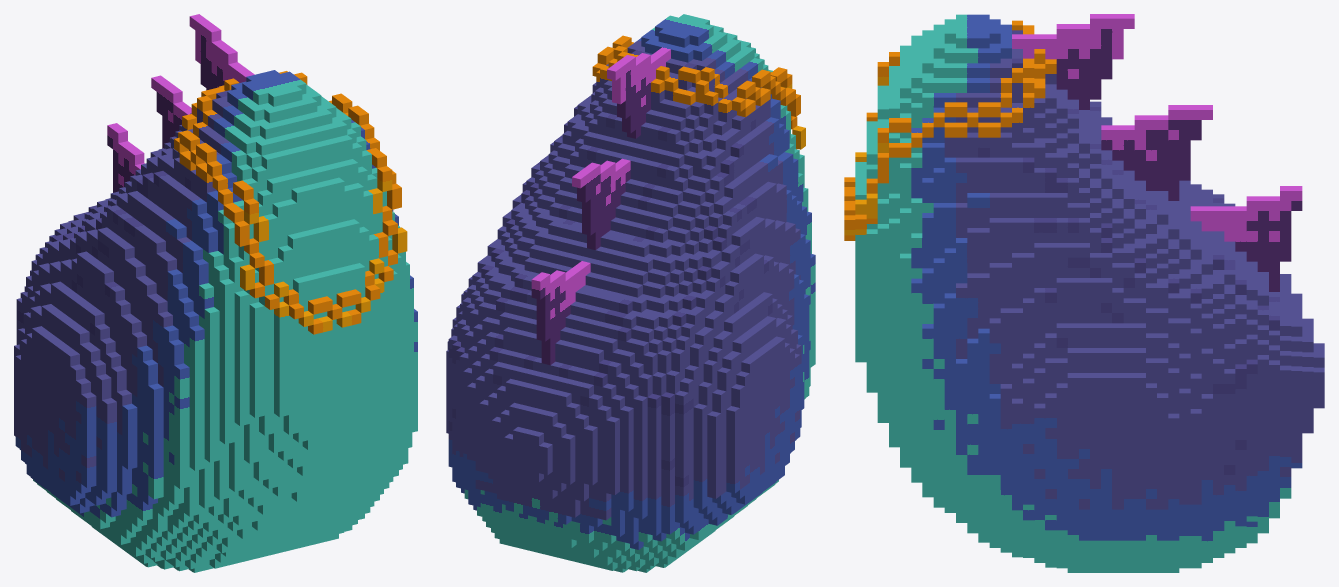
File: gold chain.gltf
The picture shows the model from 3 angles, left to right: view 1: azimuth 30°, elevation 25°; view 2: azimuth 150°, elevation 25°; view 3: azimuth 270°, elevation 25°; orthographic projection. The views are drawn at different scales.
Visible parts, largest first — view 1: 02_Body_GoldChain-Mesh; view 2: 02_Body_GoldChain-Mesh; view 3: 02_Body_GoldChain-Mesh.
Boxes of the visible parts, x1,y1,x2,y2 form: 02_Body_GoldChain-Mesh: (14, 14, 417, 572); 02_Body_GoldChain-Mesh: (446, 14, 815, 572); 02_Body_GoldChain-Mesh: (844, 14, 1324, 572).
Size of the model in its own units: 33 by 51 by 43.
1 material, 1 textured.
